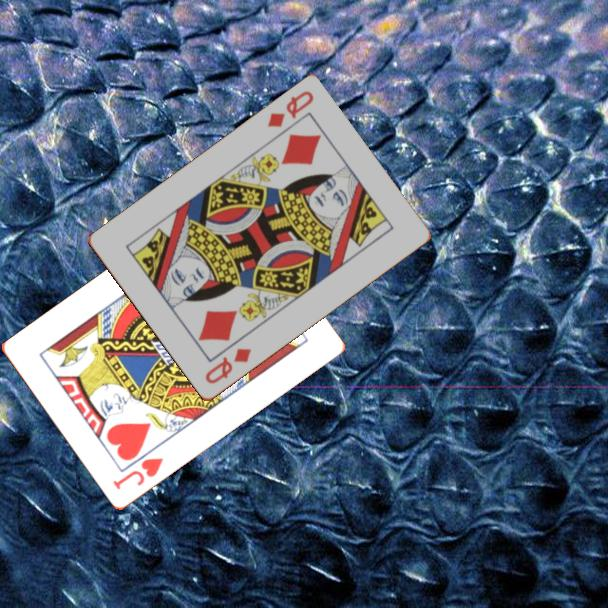d12: (263, 88, 317, 131), (201, 345, 255, 387)
h11: (109, 454, 166, 493)
